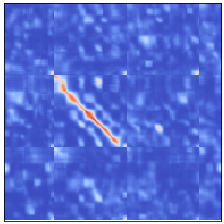action_path: (51, 75, 126, 149)
